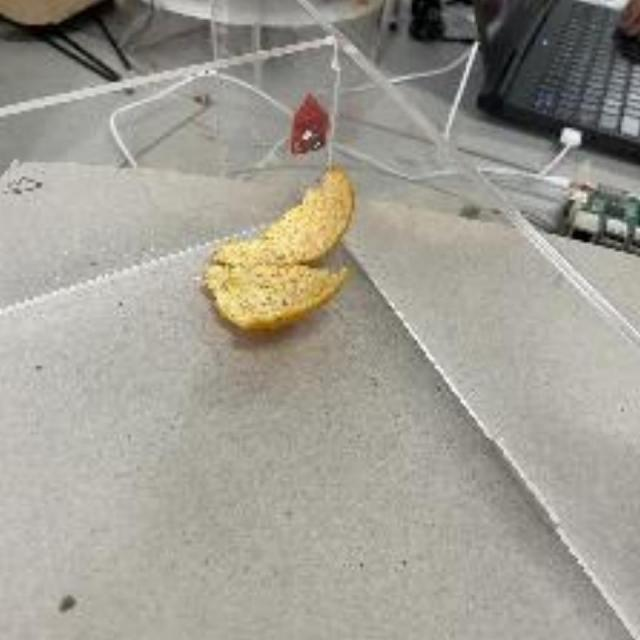orange peel: (198, 164, 354, 333)
